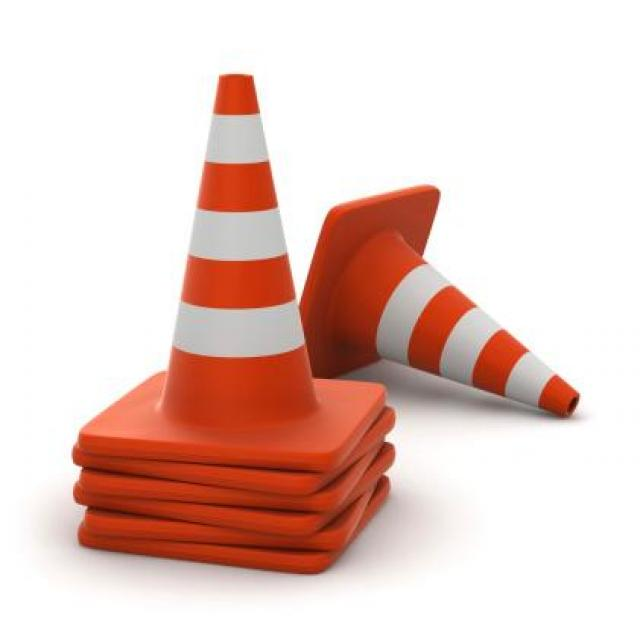Cone: (76, 72, 392, 579), (303, 184, 582, 417)
